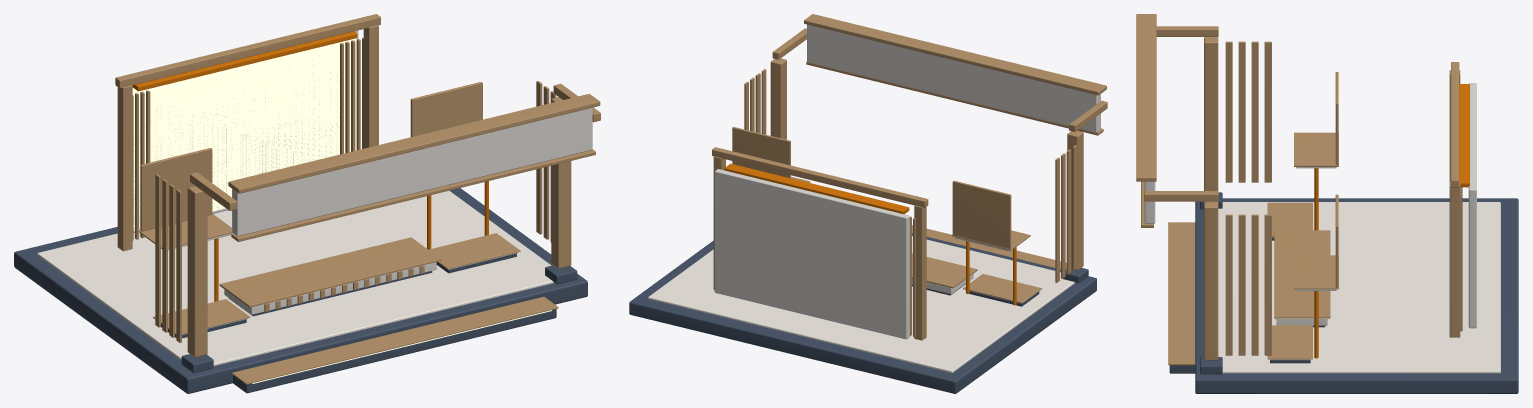
File: nordic_living_v2.glb
3 renders of one model, left to right at view 1: azimuth 30°, elevation 25°; view 2: azimuth 150°, elevation 25°; view 3: azimuth 270°, elevation 25°, orthographic. The views are drawn at different scales.
Visible parts, largest first — view 1: nordic_living_v2; view 2: nordic_living_v2; view 3: nordic_living_v2.
Boxes of the visible parts, x1,y1,x2,y2 form: nordic_living_v2: [14, 14, 600, 393]; nordic_living_v2: [629, 14, 1107, 393]; nordic_living_v2: [1136, 14, 1518, 393].
Size of the model in its own units: 7.24 by 3.86 by 6.43.
